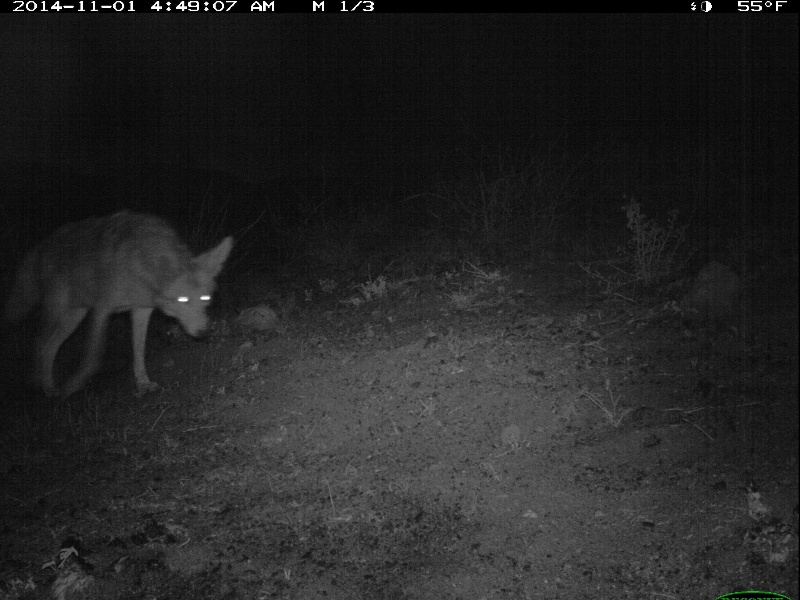coyote: (4, 201, 239, 404)
